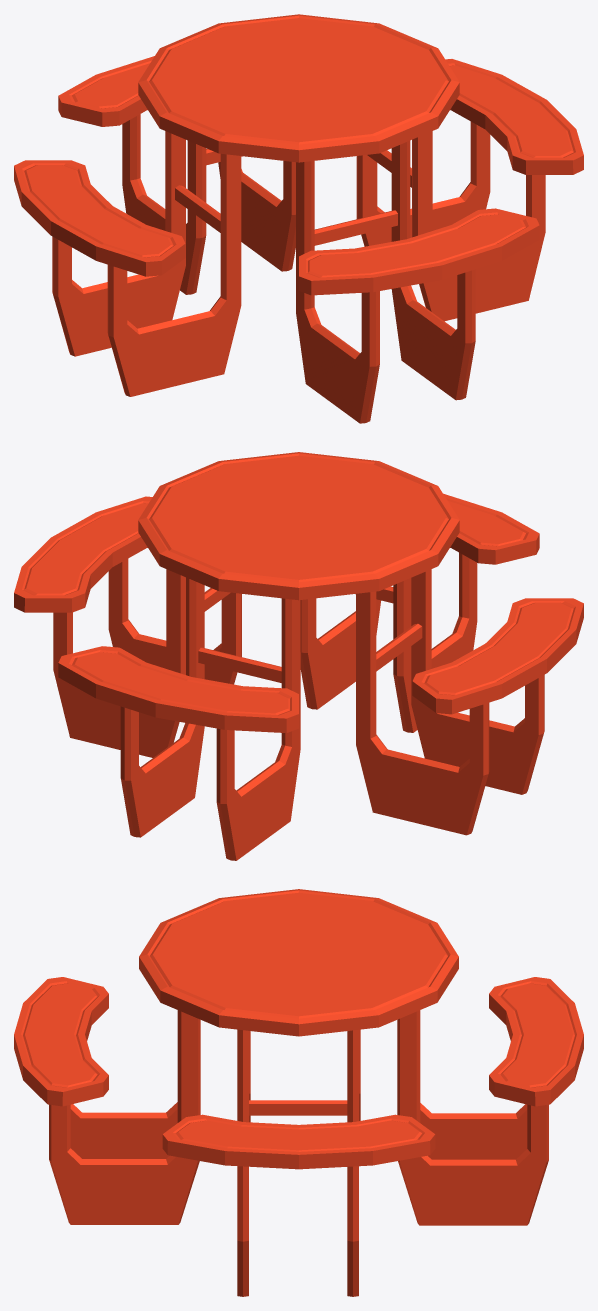
Rendered from SM_Table_A_City.fbx.
3 renders of one model, top to bottom at view 1: azimuth 30°, elevation 25°; view 2: azimuth 150°, elevation 25°; view 3: azimuth 270°, elevation 25°, orthographic.
Visible parts, largest first — view 1: SM_Table_A_City; view 2: SM_Table_A_City; view 3: SM_Table_A_City.
Part boxes in pixels (x1,y1,x2,y2): SM_Table_A_City: (14, 14, 583, 423); SM_Table_A_City: (14, 452, 583, 860); SM_Table_A_City: (14, 889, 583, 1296).
Size of the model in its own units: 2.25 by 1.07 by 2.25.
